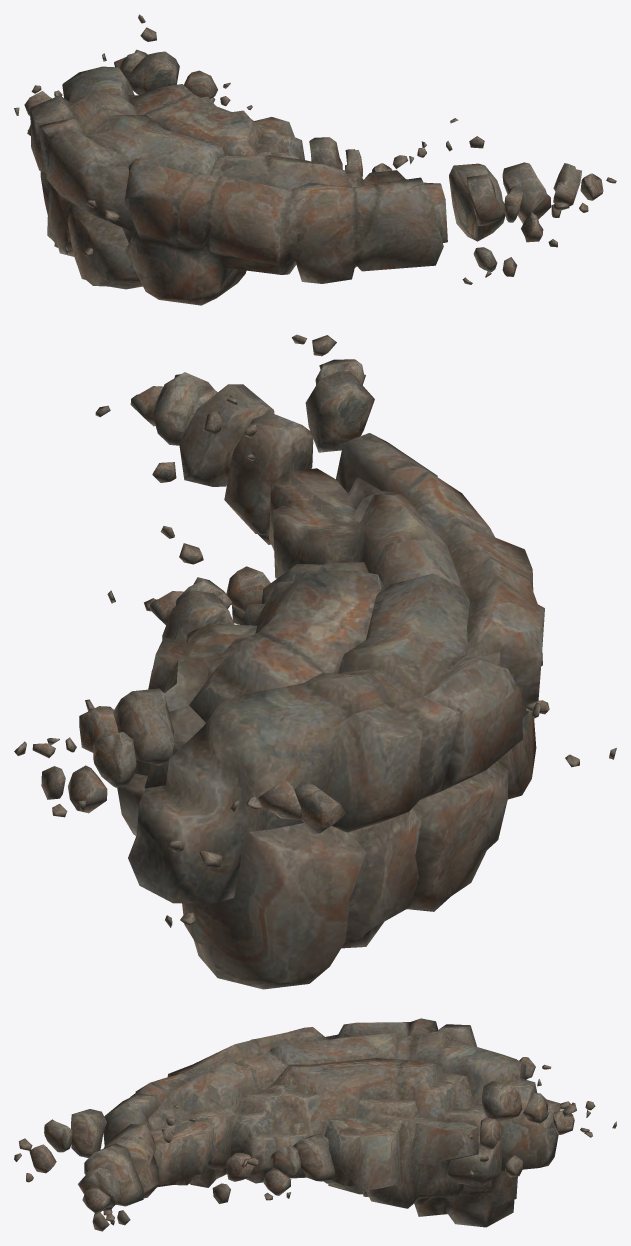
File: bg_rad_kamen_rock02e_sm.obj
The picture shows the model from 3 angles, top to bottom: view 1: azimuth 30°, elevation 25°; view 2: azimuth 150°, elevation 25°; view 3: azimuth 270°, elevation 25°; orthographic projection. The views are drawn at different scales.
Parts seen in each view (by area): view 1: bg_rad_kamen_rock02e_sm_0; view 2: bg_rad_kamen_rock02e_sm_0; view 3: bg_rad_kamen_rock02e_sm_0.
Boxes of the visible parts, left/top/right/bottom form: bg_rad_kamen_rock02e_sm_0: left=14, top=14, right=616, bottom=305; bg_rad_kamen_rock02e_sm_0: left=14, top=334, right=616, bottom=989; bg_rad_kamen_rock02e_sm_0: left=14, top=1018, right=616, bottom=1231.
Bounding box in the file's own units: 2.3 × 1.03 × 2.94.
1 material, 1 textured.
